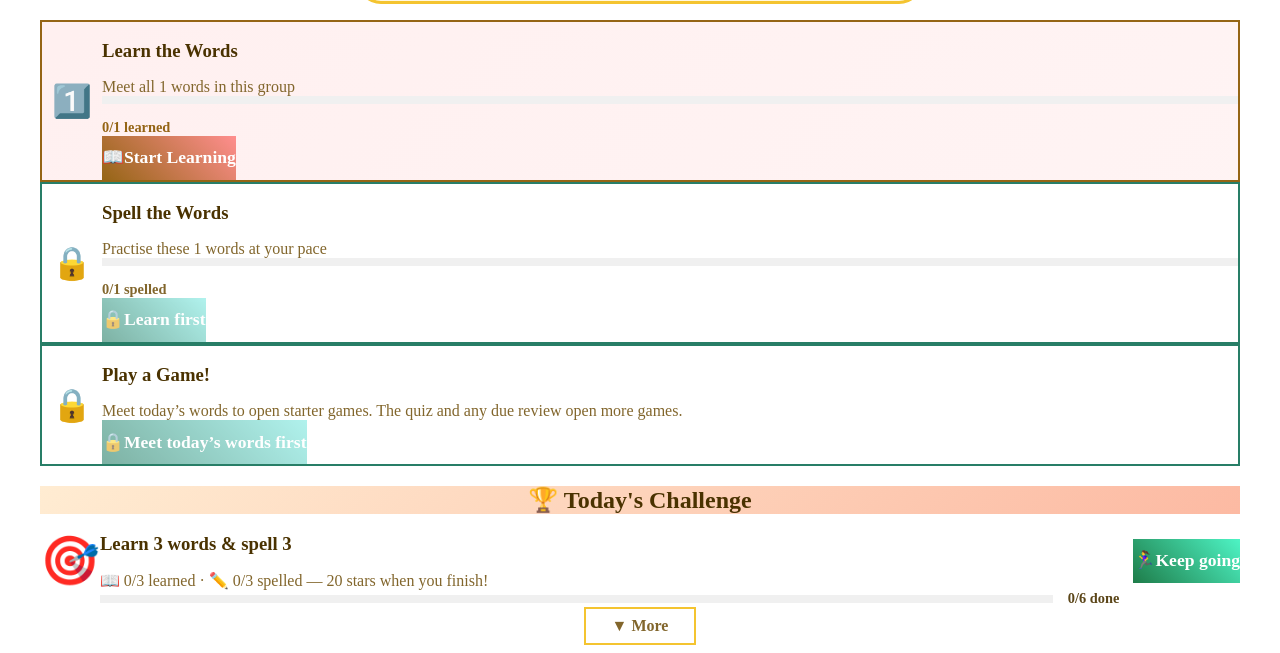
LearningHub Page - Group Succession › keeps the level picker off the lesson and under "More" on the hub
(page scrolled)
Expected: the text "🐝 Word level" is not shown
Click the button "▼ More". click: (640, 626)
box: 584,607 -> 696,645
(page scrolled)
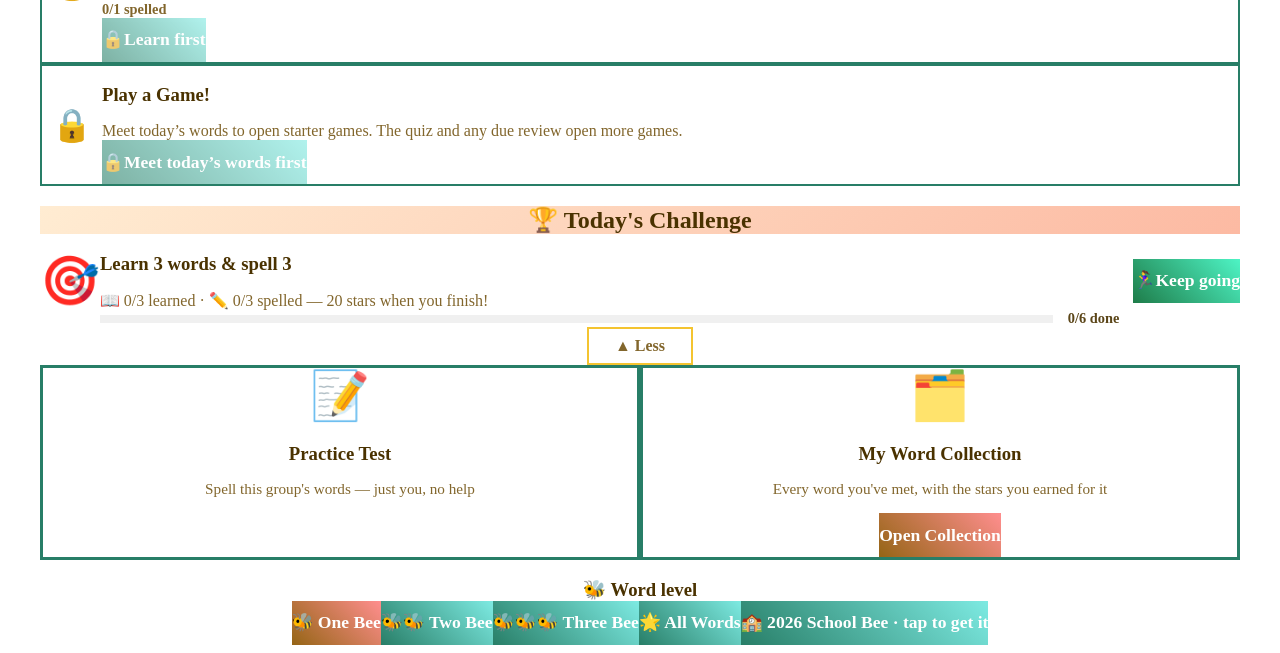
Now the heading "🐝 Word level" is shown, box 583,579 -> 697,600
Now the button "1-Word Test" is shown, box 294,513 -> 386,557
